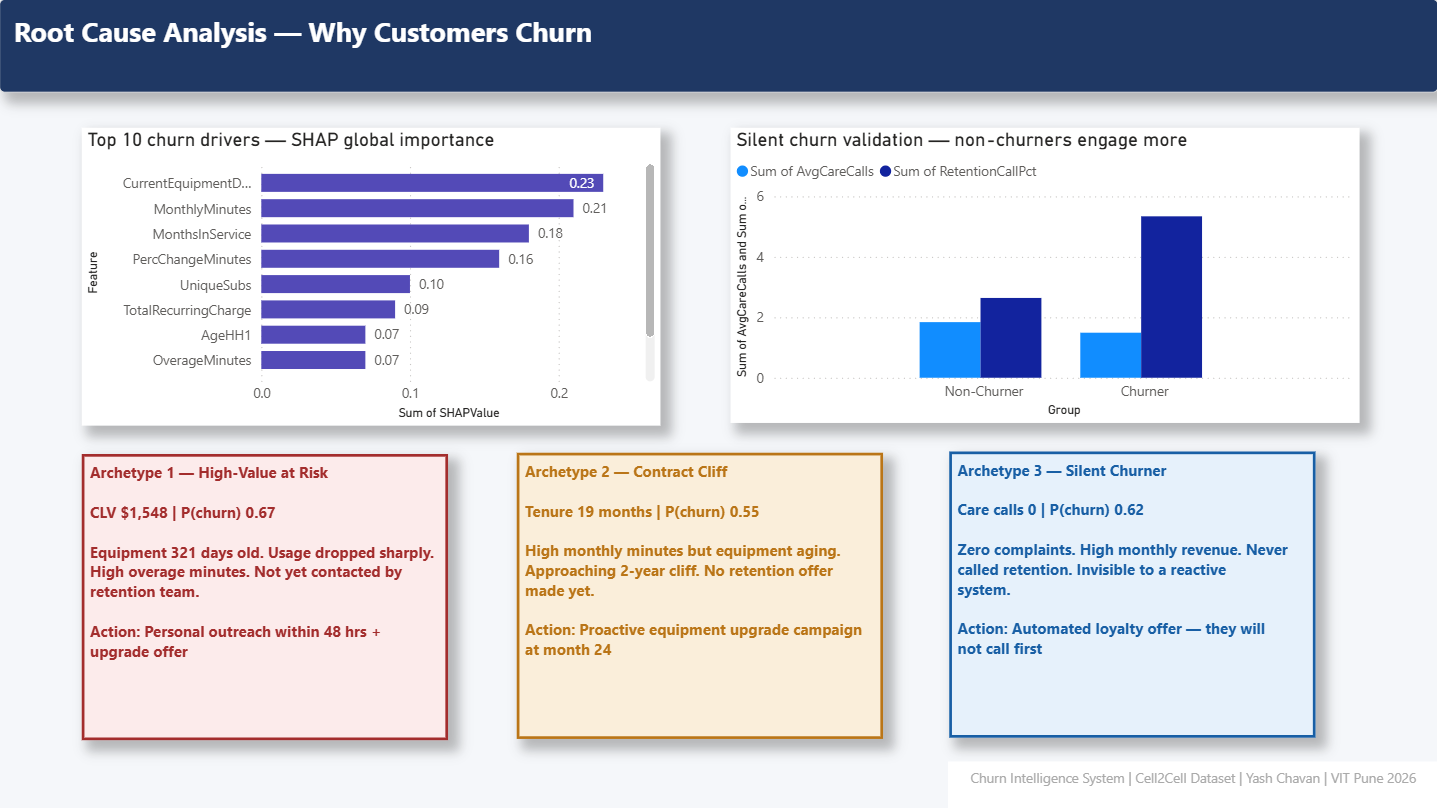

What the dashboard file says about the page in this screenshot:
{"tool":"powerbi","page":{"name":"Root Cause Analysis","canvas":[1280,720],"ordinal":3},"visuals":[{"type":"textbox","box":[1.1,0,1278.9,83.3],"z":0},{"type":"clusteredBarChart","title":"Top 10 churn drivers — SHAP global importance","fields":{"Category":["SHAPImportance.Feature"],"Y":["Sum(SHAPImportance.SHAPValue)"]},"box":[74.7,114.4,514.4,264.4],"z":1},{"type":"clusteredColumnChart","title":"Silent churn validation — non-churners engage more","fields":{"Y":["Sum(SilentChurnValidation.AvgCareCalls)","Sum(SilentChurnValidation.RetentionCallPct)"],"Category":["SilentChurnValidation.Group"]},"box":[651.3,114,558.9,262.2],"z":2},{"type":"textbox","box":[74.4,404,325.6,254.4],"z":3},{"type":"textbox","box":[461.3,402.9,325.6,254.4],"z":4},{"type":"textbox","box":[845.6,402.4,325.6,254.4],"z":5},{"type":"textbox","box":[844,677.5,436,42.5],"z":6}]}

Visuals, with their boxes in screenshot pixels (x1, y1, x2, y2), scaled from the page's 1280x720 canvas onto the 1437x808 screenshot:
textbox: bbox(1, 0, 1436, 93)
"Top 10 churn drivers — SHAP global importance" clusteredBarChart: bbox(84, 128, 661, 425)
"Silent churn validation — non-churners engage more" clusteredColumnChart: bbox(731, 128, 1359, 422)
textbox: bbox(84, 453, 449, 739)
textbox: bbox(518, 452, 883, 738)
textbox: bbox(949, 452, 1315, 737)
textbox: bbox(948, 760, 1436, 807)
